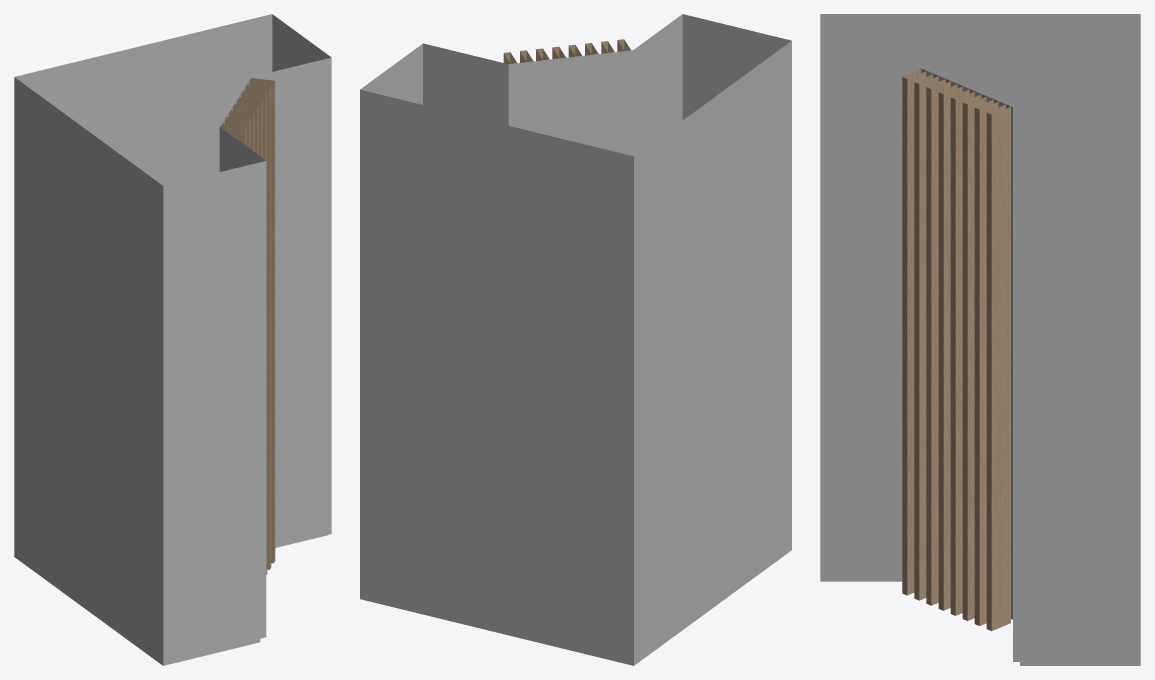
The picture shows the model from 3 angles, left to right: view 1: azimuth 30°, elevation 25°; view 2: azimuth 150°, elevation 25°; view 3: azimuth 270°, elevation 25°; orthographic projection. The views are drawn at different scales.
Parts seen in each view (by area): view 1: M_W_014_b_3x3x8; view 2: M_W_014_b_3x3x8; view 3: M_W_014_b_3x3x8.
Part boxes in pixels (left/top/right/bottom): M_W_014_b_3x3x8: left=14, top=14, right=331, bottom=665; M_W_014_b_3x3x8: left=360, top=14, right=791, bottom=665; M_W_014_b_3x3x8: left=820, top=14, right=1140, bottom=665.
Bounding box in the file's own units: 4.51 × 8.02 × 4.51.
